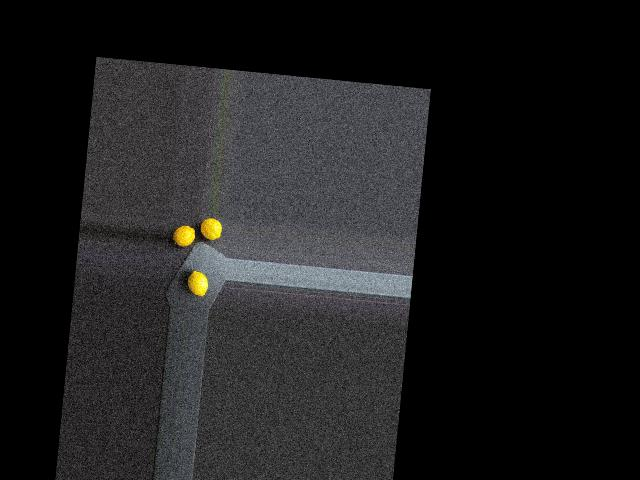lemon: (198, 215, 223, 242)
